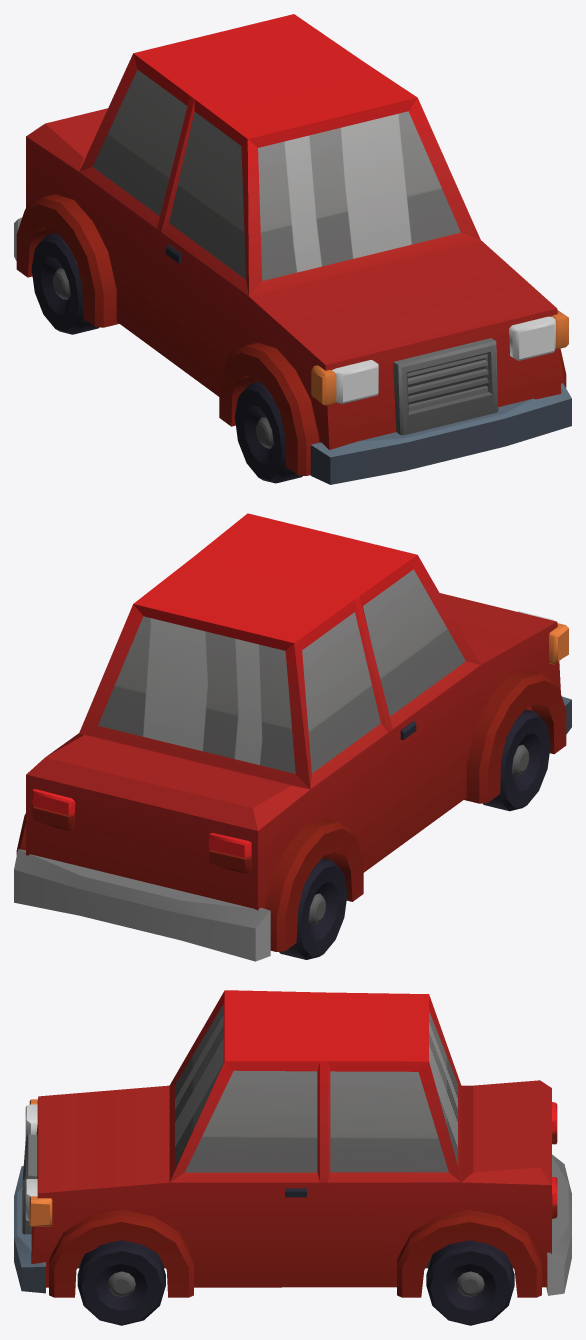
File: Car_2_7.glb
3 views of the same model, one above another, from view 1: azimuth 30°, elevation 25°; view 2: azimuth 150°, elevation 25°; view 3: azimuth 270°, elevation 25° (orthographic). The views are drawn at different scales.
Visible parts, largest first — view 1: Car_2_7, W_BR, W_FR; view 2: Car_2_7, W_FR, W_BR; view 3: Car_2_7, W_BL, W_FL.
Boxes of the visible parts, x1,y1,x2,y2 form: Car_2_7: (14,14,571,484); W_BR: (31,232,99,334); W_FR: (235,381,302,483); Car_2_7: (14,513,571,961); W_FR: (482,709,550,811); W_BR: (279,858,347,959); Car_2_7: (14,990,571,1297); W_BL: (426,1240,514,1325); W_FL: (77,1240,165,1325).
Size of the model in its own units: 1.09 by 1.11 by 2.28.
Materials: 5 (5 with a texture image).
